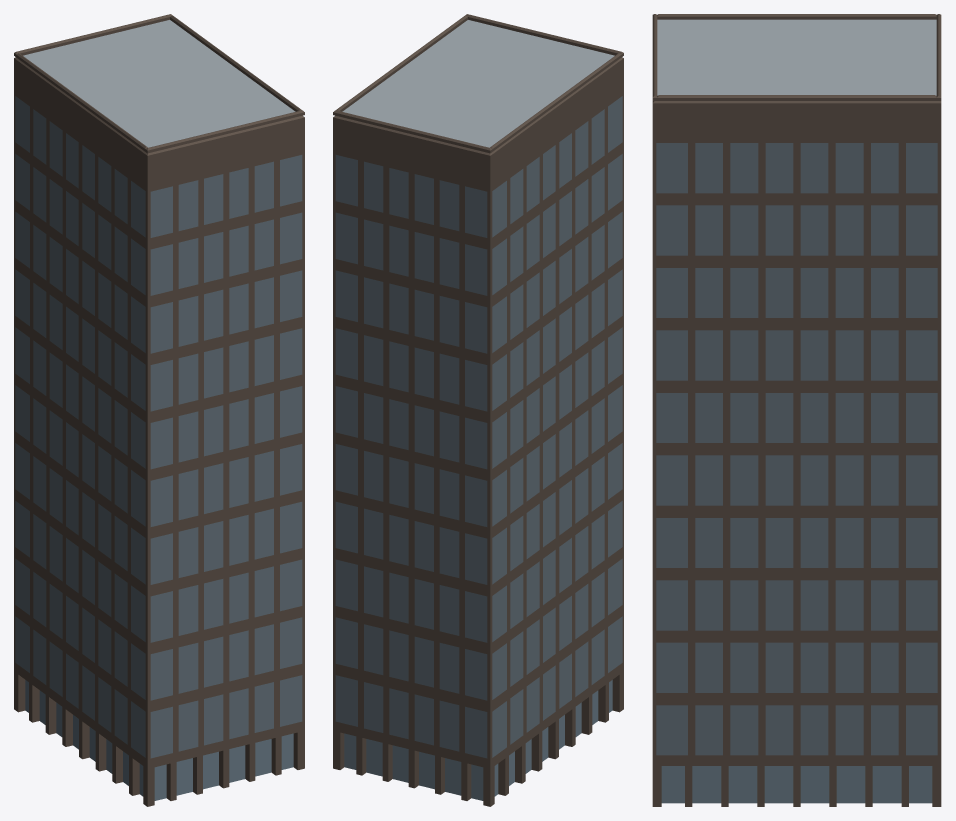
The model's file is atl-equitable-building.glb.
The picture shows the model from 3 angles, left to right: view 1: azimuth 30°, elevation 25°; view 2: azimuth 150°, elevation 25°; view 3: azimuth 270°, elevation 25°; orthographic projection. The views are drawn at different scales.
Visible parts, largest first — view 1: Equitable Building; view 2: Equitable Building; view 3: Equitable Building.
Boxes of the visible parts, x1,y1,x2,y2 form: Equitable Building: (14, 14, 304, 806); Equitable Building: (333, 14, 623, 806); Equitable Building: (652, 14, 941, 806).
Size of the model in its own units: 34.92 by 139 by 51.22.
